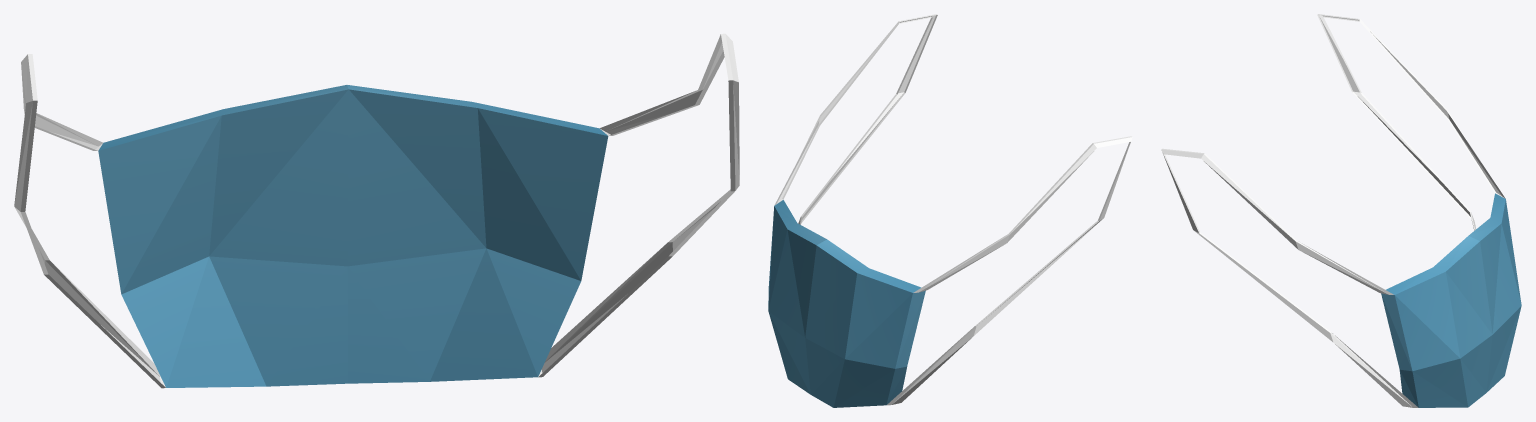
File: SURGICAL MASK.fbx
The picture shows the model from 3 angles, left to right: view 1: azimuth 30°, elevation 25°; view 2: azimuth 150°, elevation 25°; view 3: azimuth 270°, elevation 25°; orthographic projection. The views are drawn at different scales.
Parts seen in each view (by area): view 1: SURGICAL_MASK; view 2: SURGICAL_MASK; view 3: SURGICAL_MASK.
Boxes of the visible parts, bbox=[...] form: SURGICAL_MASK: bbox=[14, 33, 739, 388]; SURGICAL_MASK: bbox=[768, 14, 1132, 407]; SURGICAL_MASK: bbox=[1161, 14, 1521, 407].
Size of the model in its own units: 26.56 by 20.04 by 24.78.
